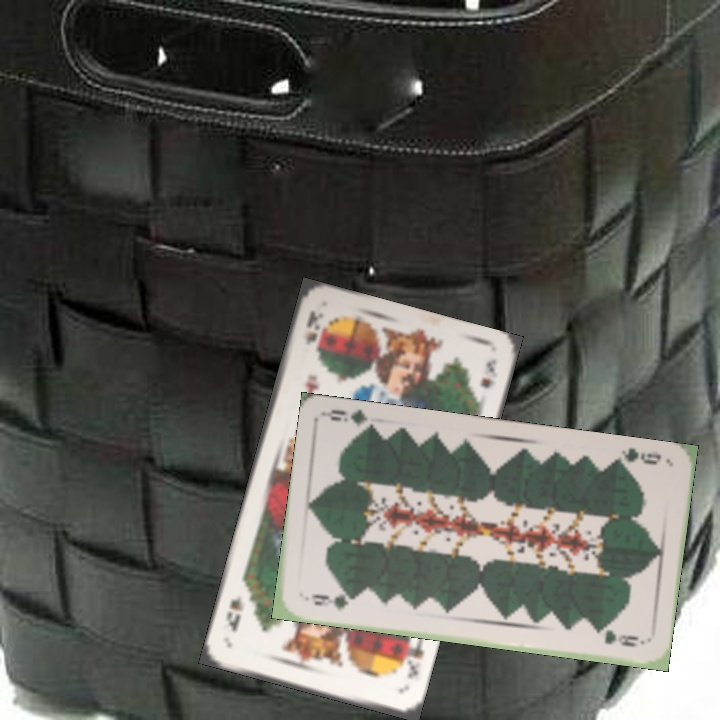G9: (307, 590, 358, 613), (617, 443, 663, 468)
SK: (397, 632, 426, 681), (301, 307, 327, 347)
